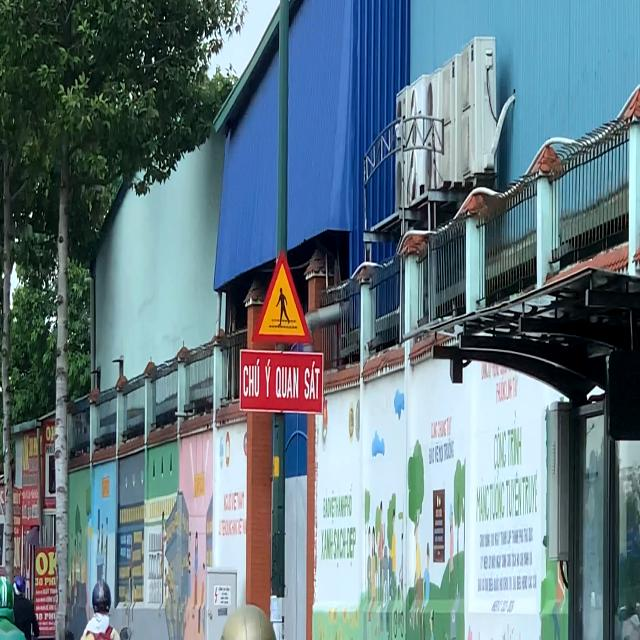W.224: (251, 248, 312, 344)
